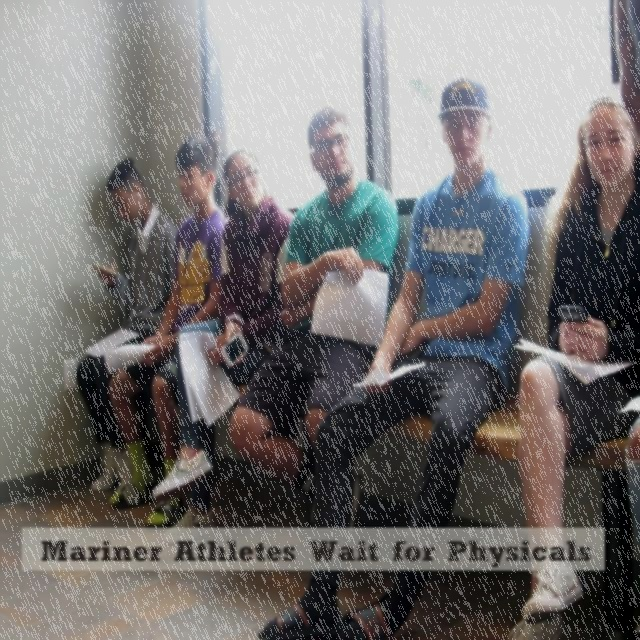pessoa: (255, 73, 534, 640), (224, 101, 402, 566), (508, 90, 639, 640), (149, 147, 296, 546), (107, 133, 231, 529), (74, 156, 180, 497), (626, 419, 640, 639)
